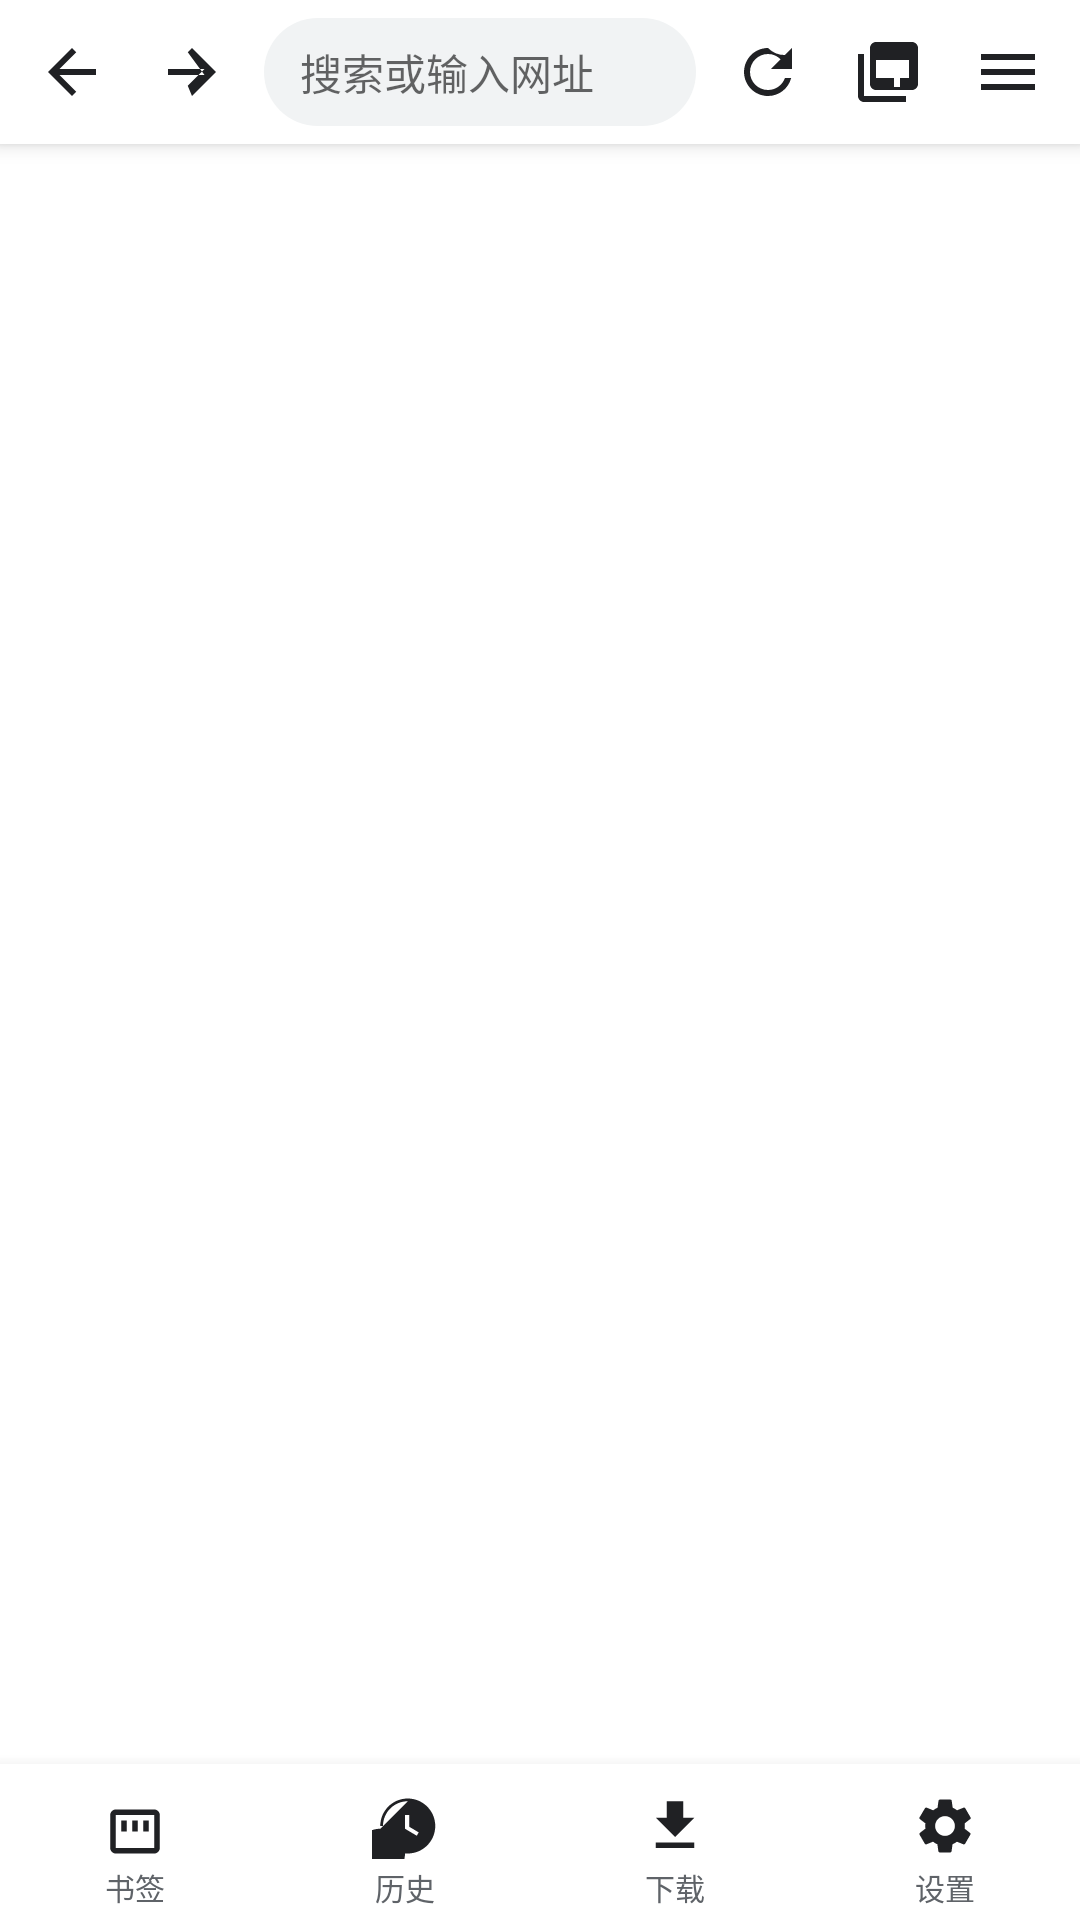

Named icons in this screenshot (1080x1920) and their bounding boxes, (x1, y1, x2, y2):
刷新: (744, 48, 792, 96)
前进: (168, 48, 216, 96)
后退: (48, 48, 96, 96)
标签页: (858, 42, 918, 102)
菜单: (981, 54, 1035, 90)
